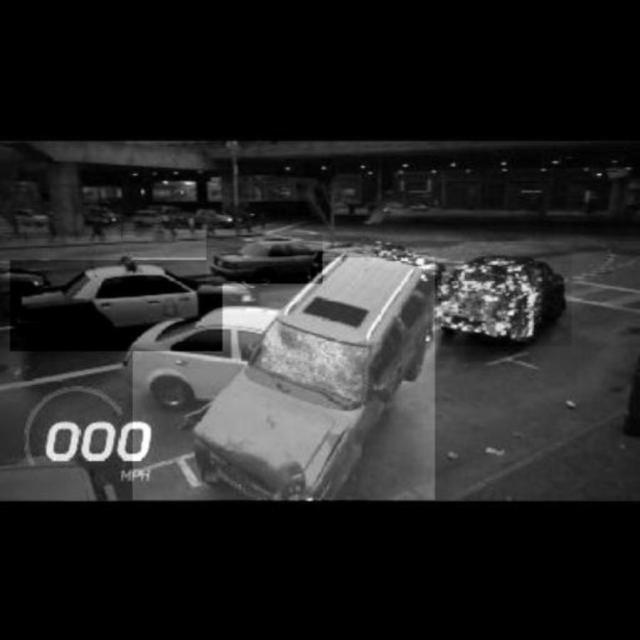accident: (133, 258, 435, 500)
vehicle: (10, 261, 222, 352), (439, 253, 571, 346), (207, 235, 323, 283)
